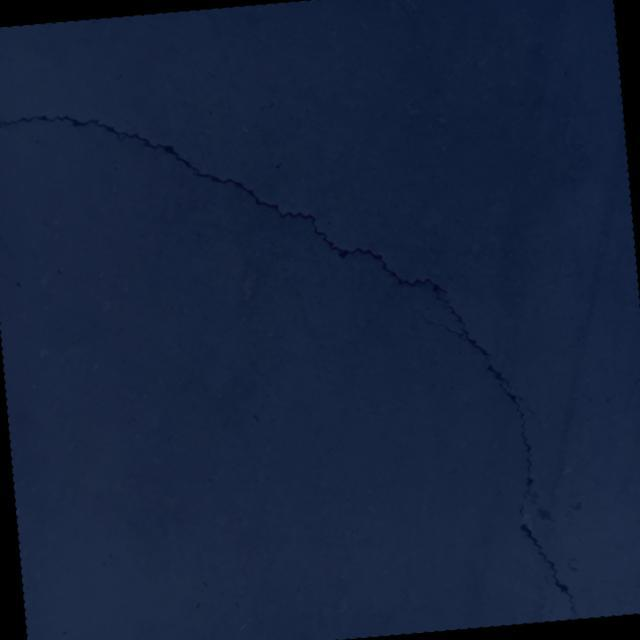crack: (0, 71, 599, 640), (621, 365, 640, 407)
